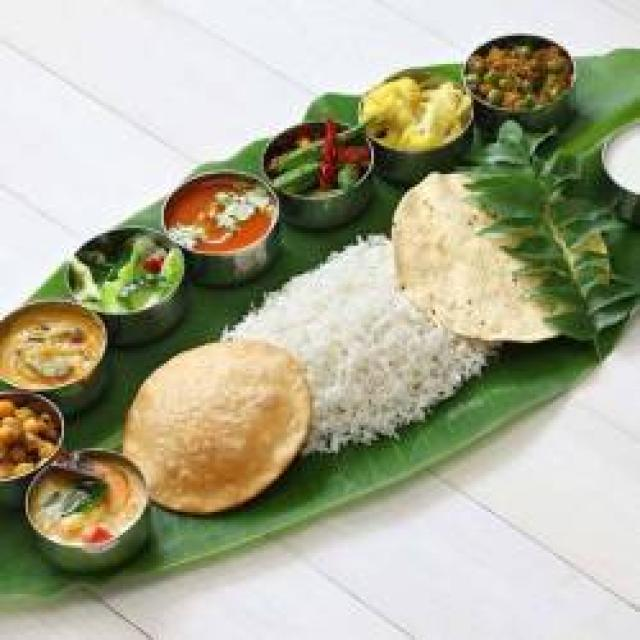veg meals: (0, 24, 640, 574)
